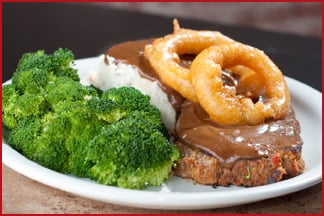curry: (1, 47, 181, 189)
